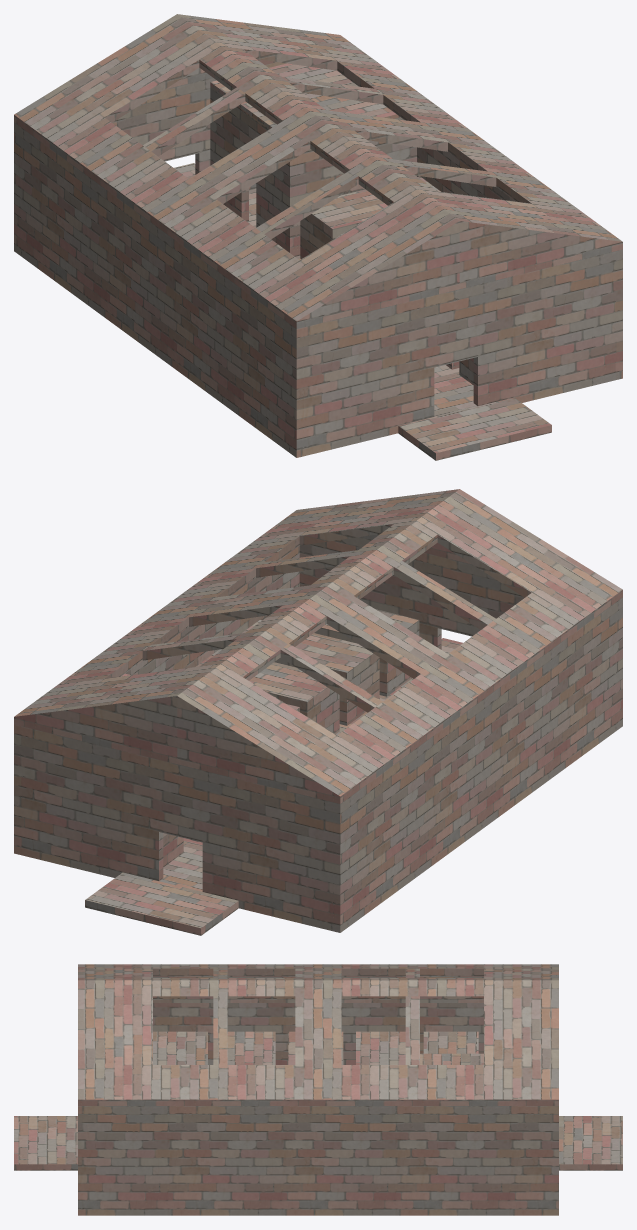
File: gj_01-tex.obj
The picture shows the model from 3 angles, top to bottom: view 1: azimuth 30°, elevation 25°; view 2: azimuth 150°, elevation 25°; view 3: azimuth 270°, elevation 25°; orthographic projection. The views are drawn at different scales.
Parts seen in each view (by area): view 1: entity0_brush1, entity0_brush7, entity0_brush47, entity0_brush46, entity0_brush8, entity0_brush13, entity0_brush4, entity0_brush44, entity0_brush6, entity0_brush45, entity0_brush0, entity0_brush9 (+23 smaller); view 2: entity0_brush1, entity0_brush7, entity0_brush40, entity0_brush42, entity0_brush8, entity0_brush13, entity0_brush3, entity0_brush41, entity0_brush5, entity0_brush43, entity0_brush10, entity0_brush0 (+21 smaller); view 3: entity0_brush2, entity0_brush13, entity0_brush17, entity0_brush1, entity0_brush16, entity0_brush18, entity0_brush7, entity0_brush48, entity0_brush49, entity0_brush0, entity0_brush24, entity0_brush29 (+13 smaller).
Part boxes in pixels (left/top/right/bottom): entity0_brush1: left=14, top=122, right=303, bottom=450; entity0_brush7: left=18, top=88, right=339, bottom=325; entity0_brush47: left=456, top=251, right=615, bottom=361; entity0_brush46: left=304, top=290, right=456, bottom=399; entity0_brush8: left=160, top=17, right=455, bottom=230; entity0_brush13: left=298, top=32, right=617, bottom=238; entity0_brush4: left=292, top=218, right=459, bottom=328; entity0_brush44: left=473, top=323, right=615, bottom=405; entity0_brush6: left=456, top=218, right=622, bottom=288; entity0_brush45: left=304, top=367, right=434, bottom=448; entity0_brush0: left=14, top=188, right=622, bottom=457; entity0_brush9: left=65, top=30, right=199, bottom=122; entity0_brush1: left=333, top=597, right=622, bottom=925; entity0_brush7: left=297, top=563, right=618, bottom=800; entity0_brush40: left=21, top=726, right=180, bottom=836; entity0_brush42: left=180, top=765, right=332, bottom=874; entity0_brush8: left=181, top=492, right=476, bottom=705; entity0_brush13: left=19, top=507, right=338, bottom=713; entity0_brush3: left=177, top=693, right=344, bottom=803; entity0_brush41: left=21, top=798, right=163, bottom=880; entity0_brush5: left=14, top=693, right=180, bottom=763; entity0_brush43: left=202, top=842, right=332, bottom=923; entity0_brush10: left=437, top=505, right=571, bottom=597; entity0_brush0: left=14, top=678, right=622, bottom=932; entity0_brush2: left=78, top=1106, right=558, bottom=1209; entity0_brush13: left=85, top=1065, right=551, bottom=1105; entity0_brush17: left=85, top=980, right=551, bottom=1002; entity0_brush1: left=153, top=977, right=483, bottom=1064; entity0_brush16: left=484, top=996, right=551, bottom=1064; entity0_brush18: left=85, top=996, right=152, bottom=1064; entity0_brush7: left=85, top=964, right=551, bottom=976; entity0_brush48: left=14, top=1116, right=77, bottom=1170; entity0_brush49: left=559, top=1116, right=622, bottom=1170; entity0_brush0: left=78, top=1209, right=558, bottom=1215; entity0_brush24: left=153, top=1031, right=207, bottom=1064; entity0_brush29: left=356, top=1031, right=405, bottom=1064.
Bounding box in the file's own units: 720 × 416 × 1368.
1 material, 1 textured.
